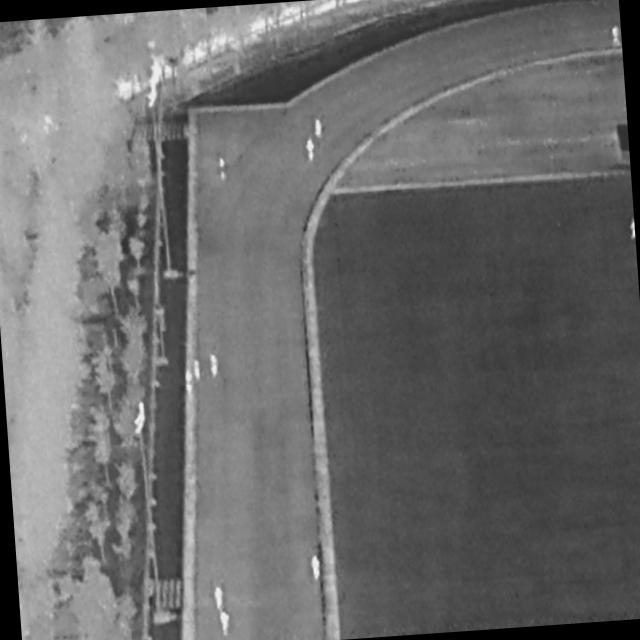person: (220, 612, 232, 639), (213, 587, 225, 612), (311, 554, 322, 581), (611, 24, 622, 47), (209, 354, 219, 378), (306, 139, 316, 162), (185, 372, 195, 395), (218, 158, 227, 182), (315, 118, 324, 141), (631, 218, 637, 242), (194, 360, 201, 380)
